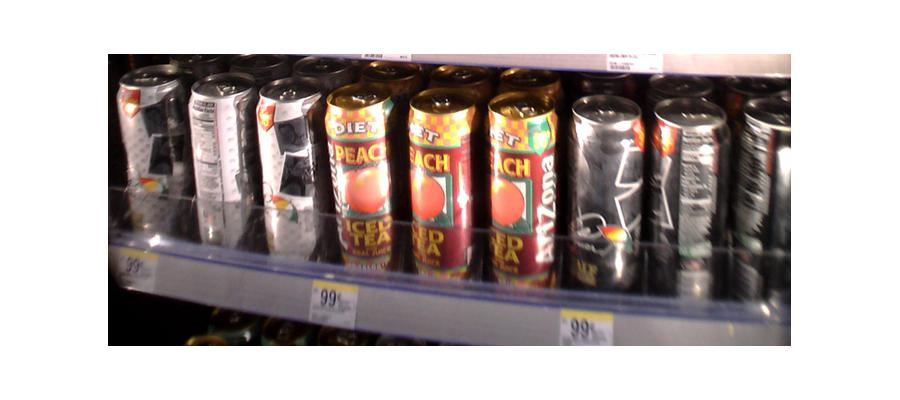bottle: (567, 94, 643, 296), (488, 85, 560, 292), (651, 98, 723, 302), (324, 83, 396, 276), (407, 90, 476, 282), (254, 82, 323, 264), (116, 64, 186, 243), (190, 75, 252, 251), (738, 103, 788, 306)
